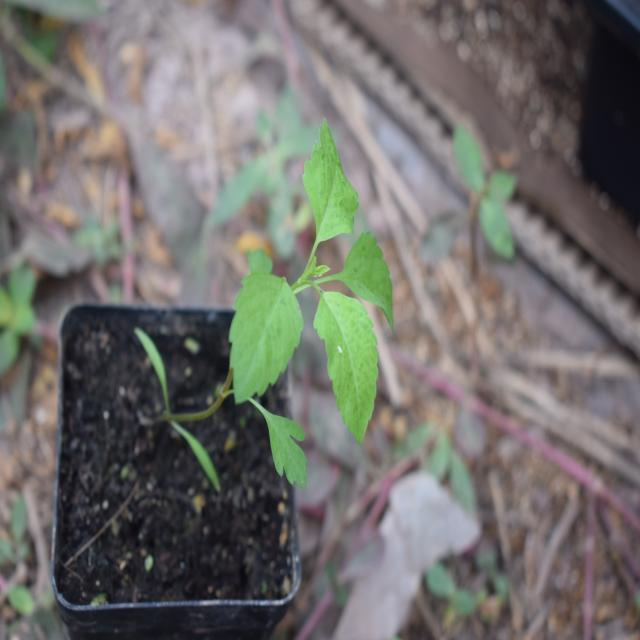Bidens pilosa: (210, 115, 407, 493)
